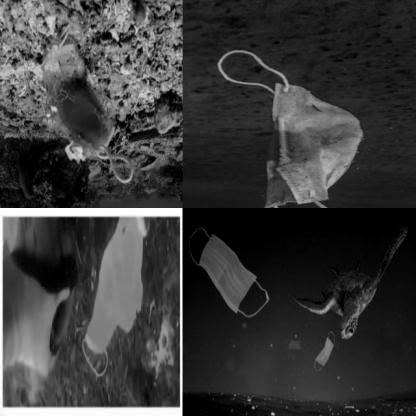Mask: (201, 42, 382, 207), (40, 24, 134, 184), (184, 209, 272, 332), (83, 218, 146, 378), (310, 328, 337, 376), (282, 327, 306, 359)
